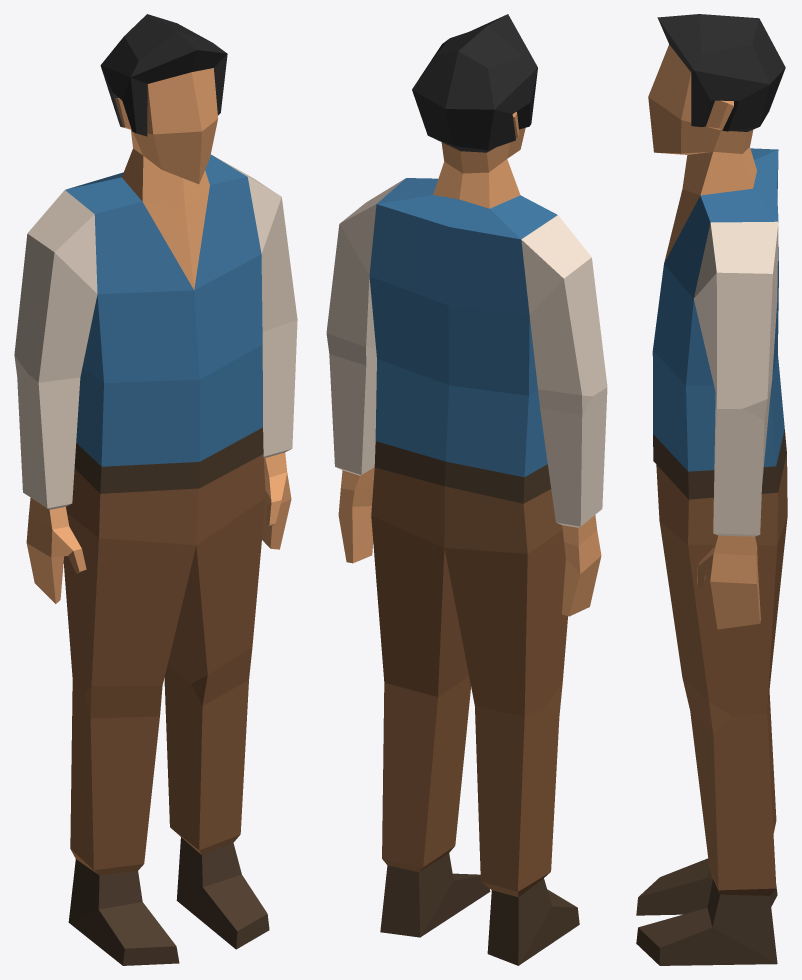
The model's file is man-lad.glb.
The picture shows the model from 3 angles, left to right: view 1: azimuth 30°, elevation 25°; view 2: azimuth 150°, elevation 25°; view 3: azimuth 270°, elevation 25°; orthographic projection. The views are drawn at different scales.
Parts seen in each view (by area): view 1: man-lad; view 2: man-lad; view 3: man-lad.
Boxes of the visible parts, bbox=[...] form: man-lad: bbox=[14, 14, 297, 965]; man-lad: bbox=[326, 14, 607, 965]; man-lad: bbox=[636, 14, 787, 965].
Bounding box in the file's own units: 0.5495 × 1.83 × 0.2741.
1 material, 1 textured.
